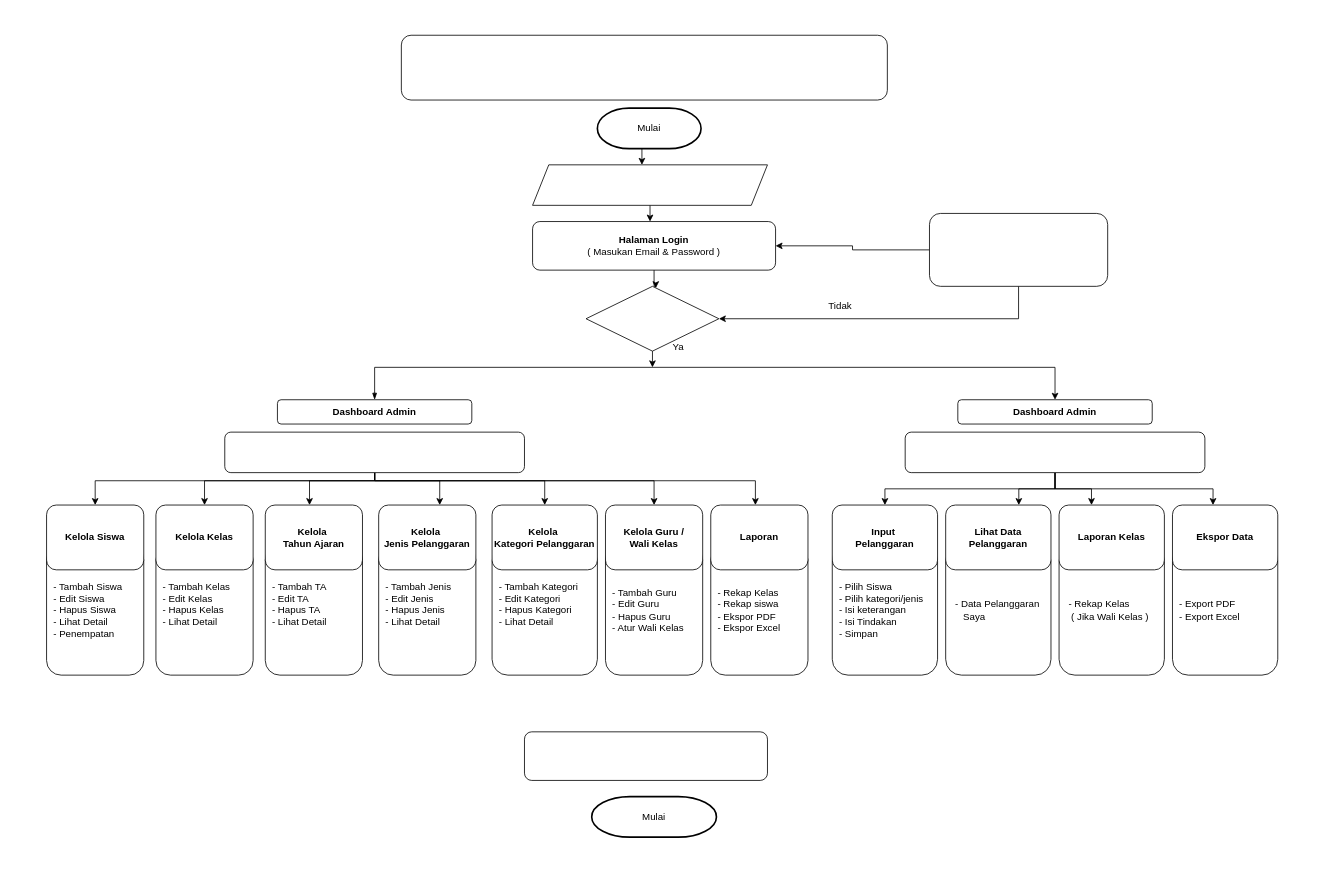
Image size: 1332x870. Some labels were removed from this diagram. Each missing label, with the box of its shape:
Akses Website ( https://sekolahku.site.je ): (532, 164, 767, 205)
Dashboard Admin ( Ringkasan Data & Statistik ): (224, 431, 524, 473)
Dashboard Guru ( Akses Data Sesuai Hak ): (904, 431, 1205, 473)
Flowchart Sekolahku ( Sistem Manajemen Pelanggaran Siswa ): (401, 34, 887, 100)
Login Berhasil?: (585, 286, 719, 351)
Logout ( Keluar Dari Sistem ): (524, 731, 767, 780)
Pesan Error ( Periksa Email & Password ): (929, 213, 1108, 286)
